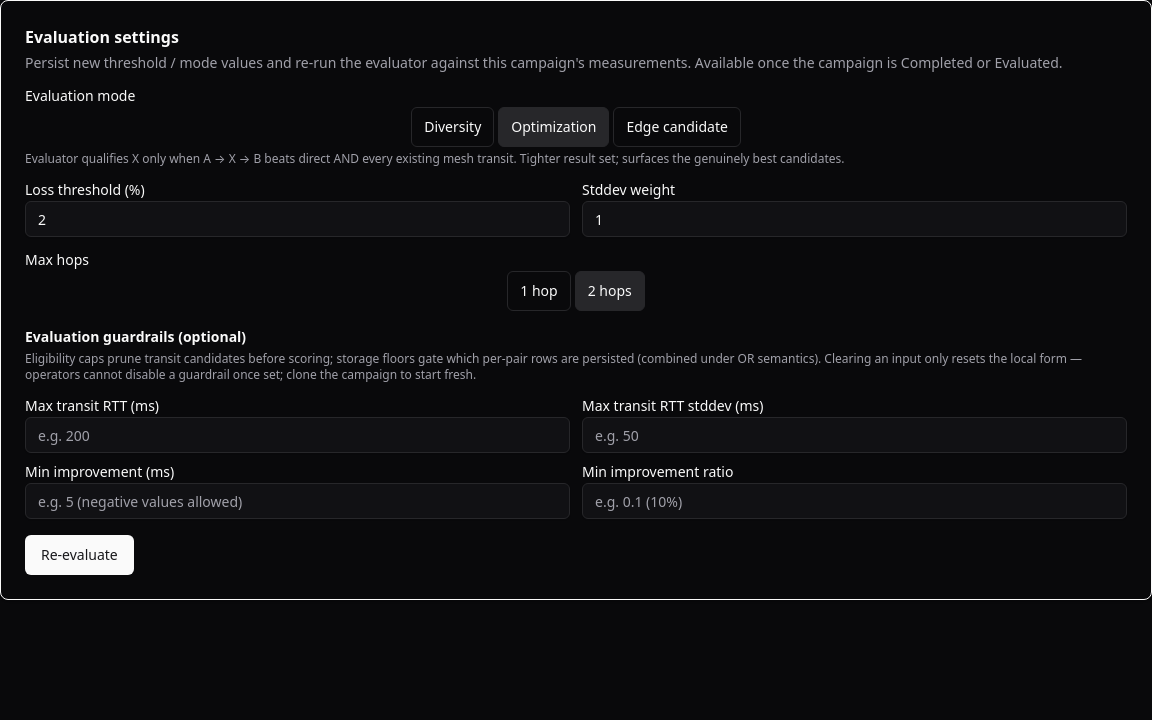
Test: SettingsTab — submit flow › surfaces an illegal_state_transition toast when patch is raced by the backend
The width and height of the screenshot is (1152, 720).
Click the button "Re-evaluate" at (79, 555), box [25,535,134,575]
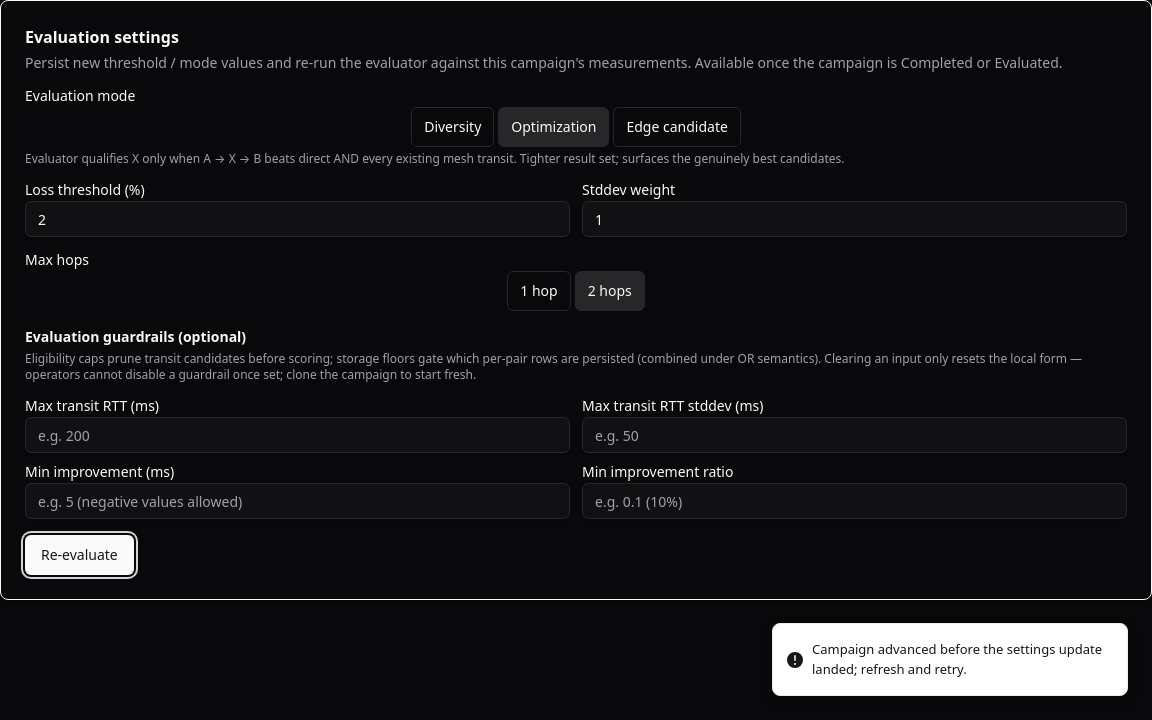
Expected: the text "refresh and retry" is shown, [812,640,1102,678]
